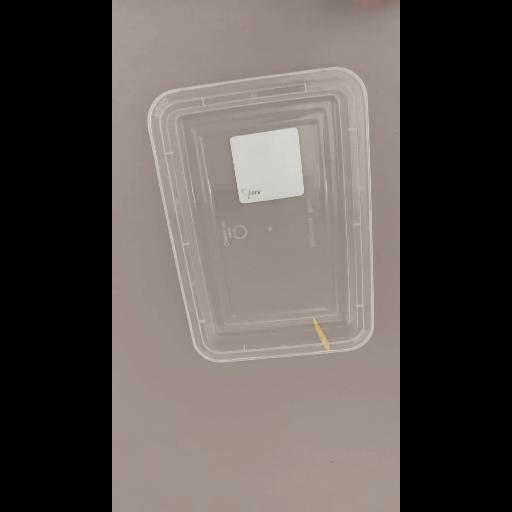rigid_plastic_lid: (152, 74, 374, 358)
